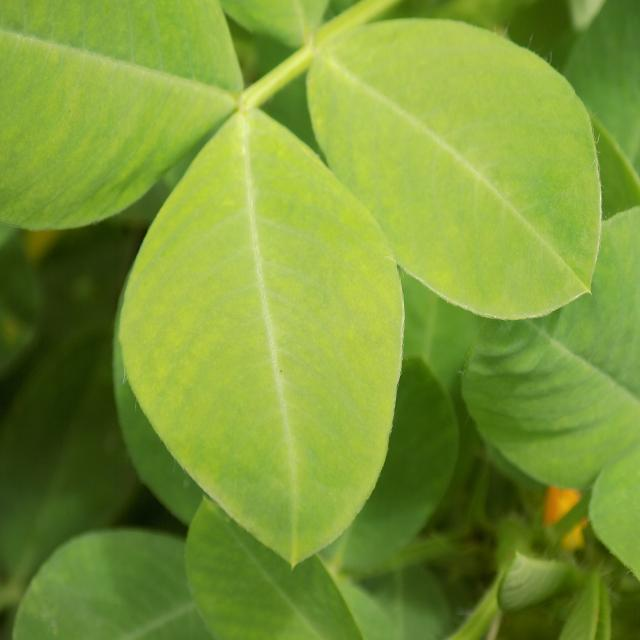Ground nut_healthy: (123, 100, 402, 561), (306, 19, 604, 325)
